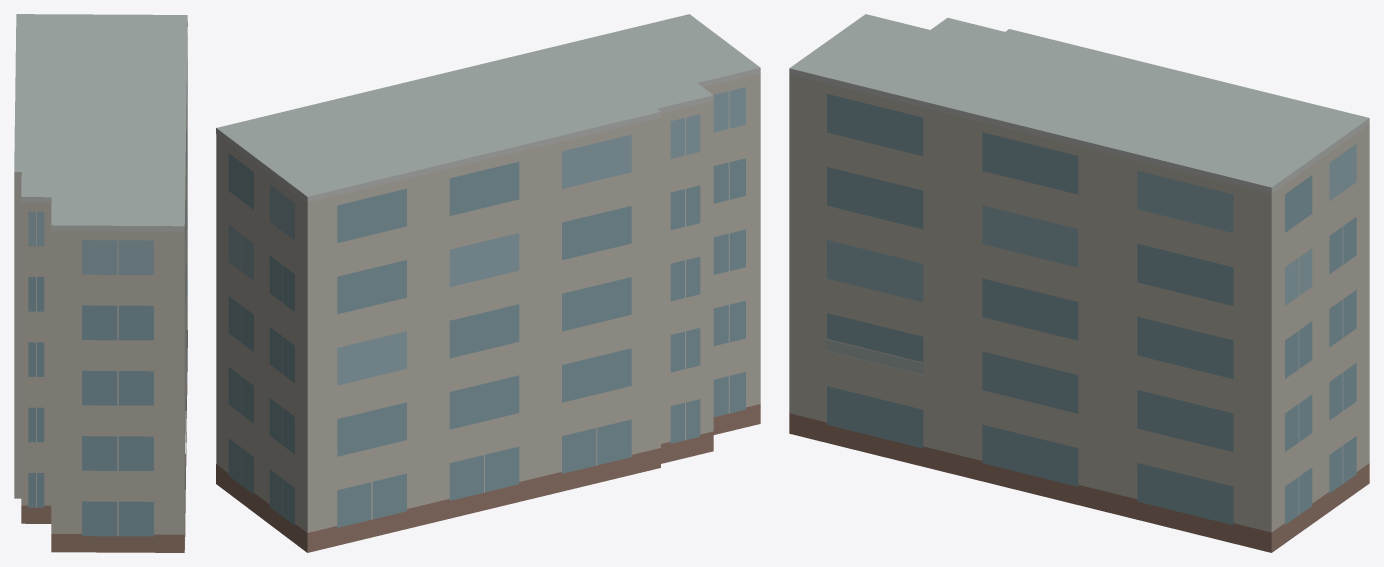
Rendered from survey-upis-32835570.glb.
3 renders of one model, left to right at view 1: azimuth 30°, elevation 25°; view 2: azimuth 150°, elevation 25°; view 3: azimuth 270°, elevation 25°, orthographic. The views are drawn at different scales.
Parts seen in each view (by area): view 1: survey-upis-32835570.tmp; view 2: survey-upis-32835570.tmp; view 3: survey-upis-32835570.tmp.
Boxes of the visible parts, x1,y1,x2,y2 form: survey-upis-32835570.tmp: (14,14,187,552); survey-upis-32835570.tmp: (216,14,760,552); survey-upis-32835570.tmp: (789,14,1369,552).
Bounding box in the file's own units: 14.78 × 14.5 × 20.89.
